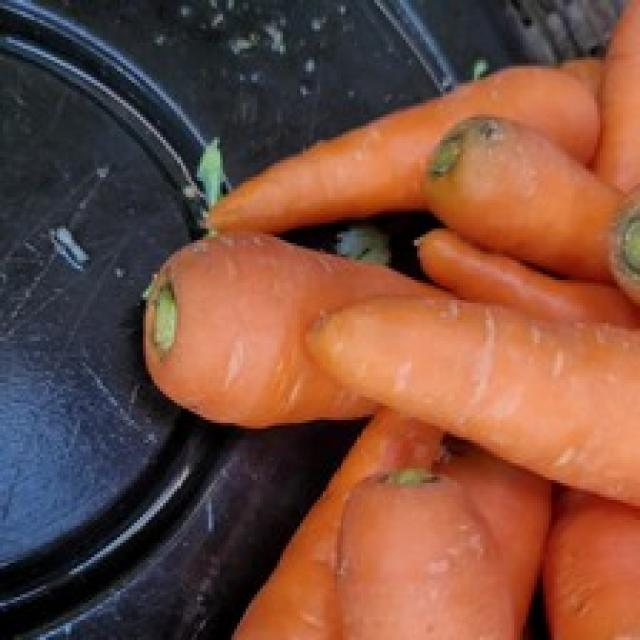carrot: (311, 297, 640, 507), (211, 64, 603, 233), (146, 234, 443, 427), (426, 120, 629, 280)
